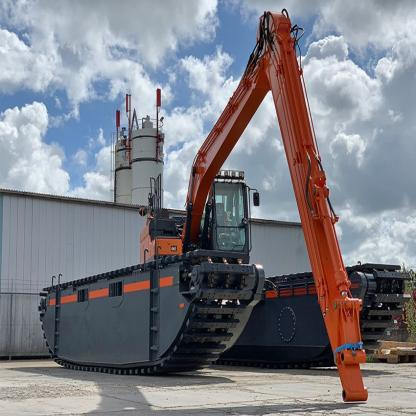excavator: (21, 9, 413, 400)
